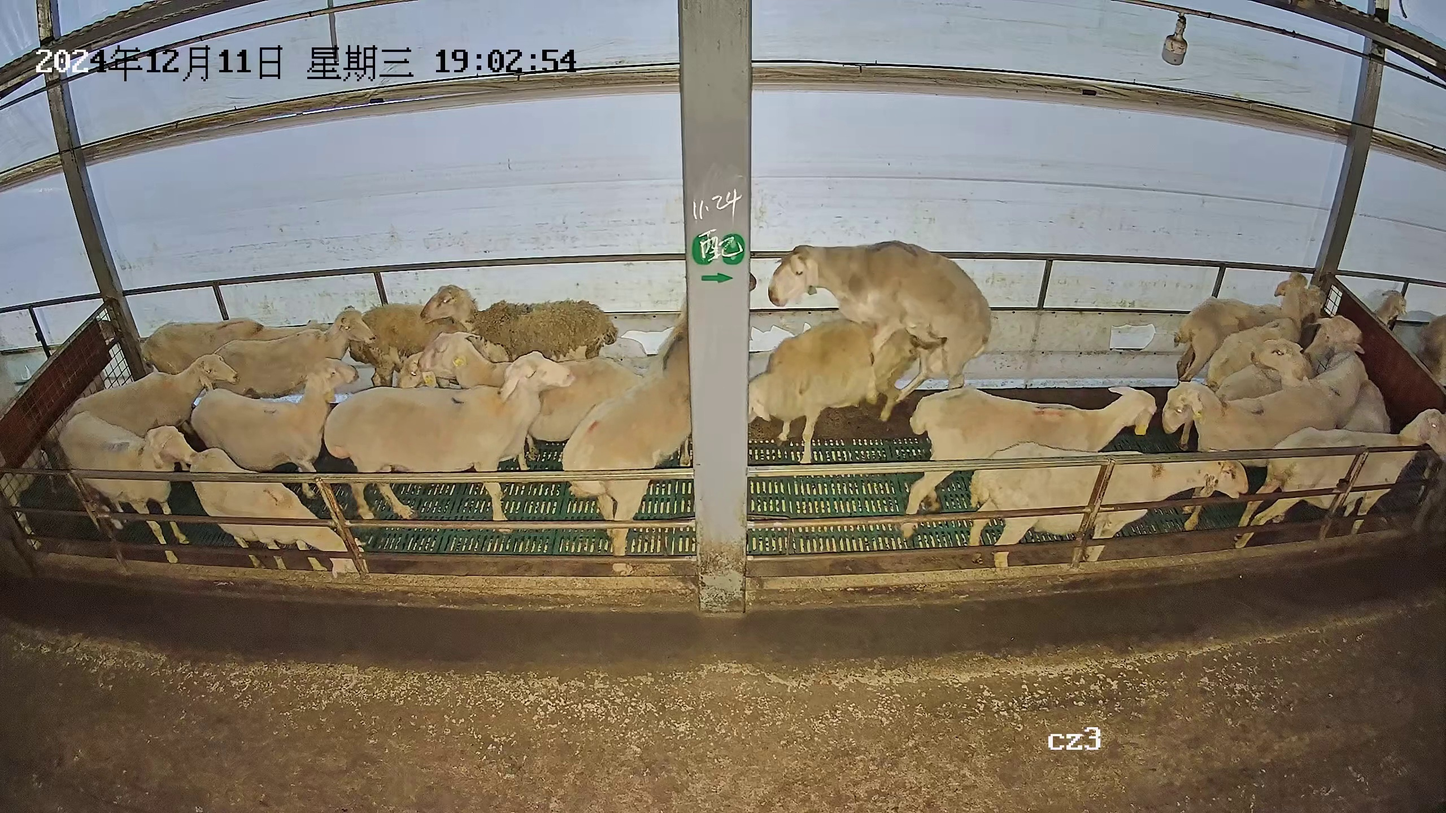Smounting: (744, 239, 993, 466)
mounted: (748, 314, 914, 462)
